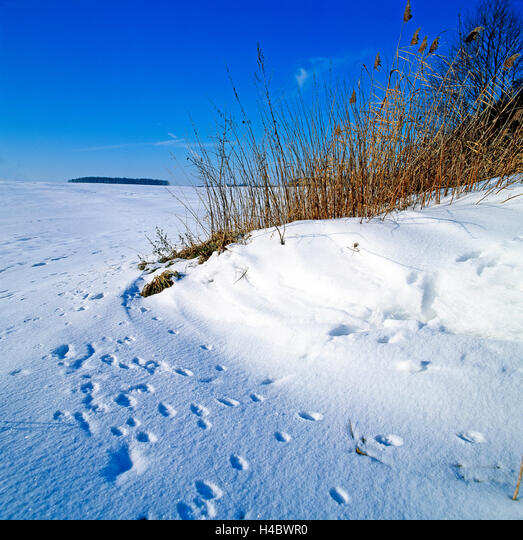fox: (226, 452, 251, 472), (329, 483, 351, 504), (274, 431, 289, 442)
